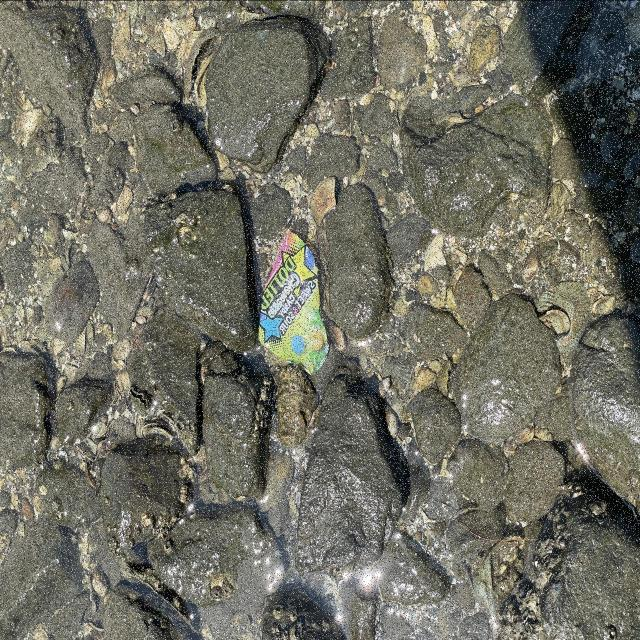plastic_waste: (259, 230, 329, 377)
